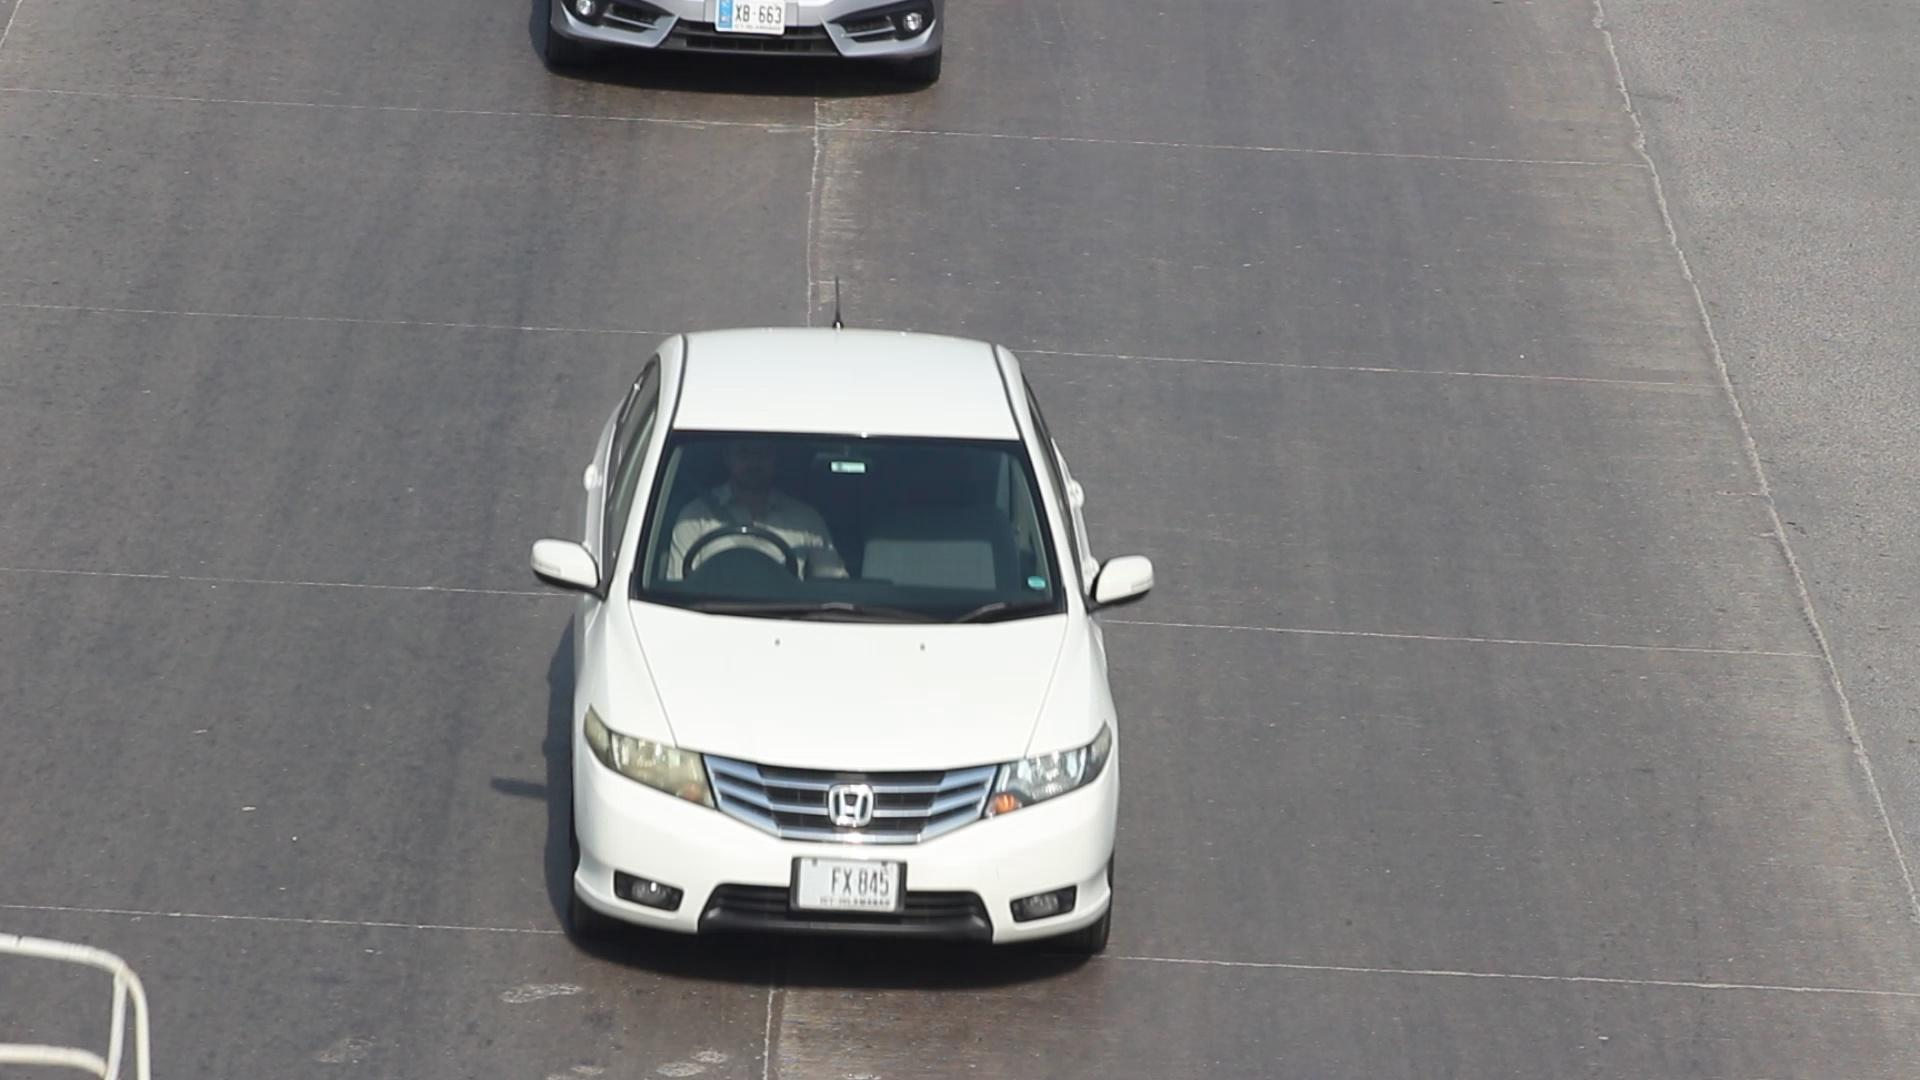windshield: (608, 400, 1101, 640)
